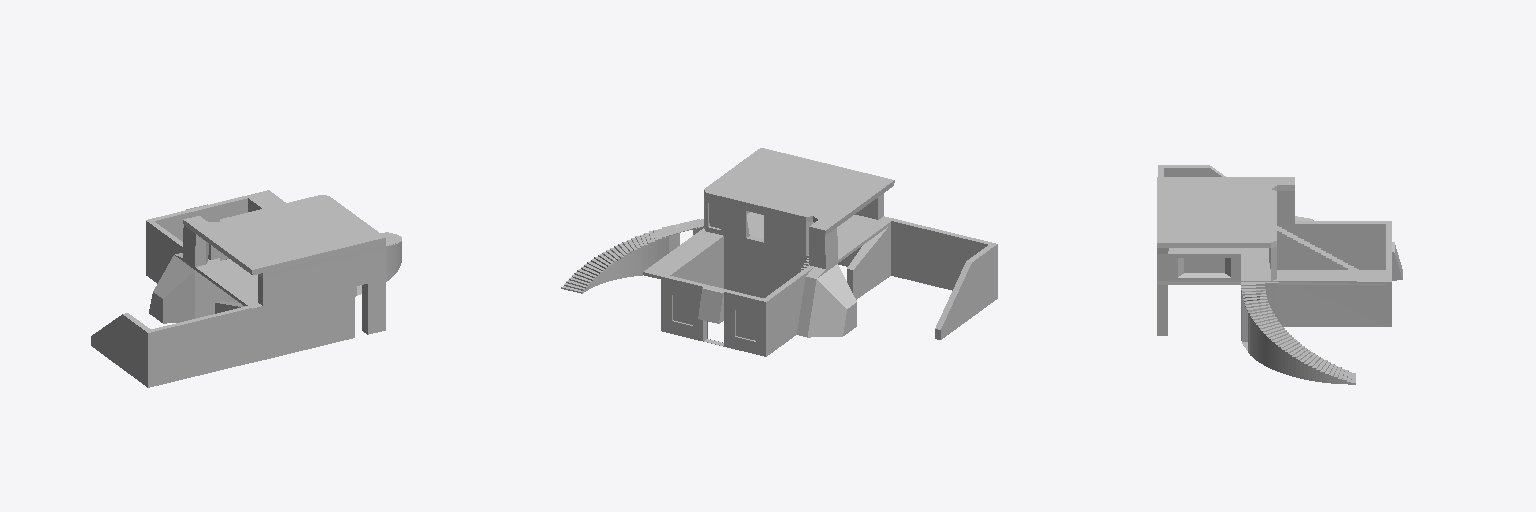
The model's file is House01.obj.
The picture shows the model from 3 angles: view 1: azimuth 30°, elevation 25°; view 2: azimuth 150°, elevation 25°; view 3: azimuth 270°, elevation 25°; orthographic projection.
Visible parts, largest first — view 1: Cube (1); view 2: Cube (1); view 3: Cube (1).
Boxes of the visible parts, box(x1,y1,x2,y2) form: Cube (1): box(91, 190, 401, 387); Cube (1): box(561, 148, 997, 356); Cube (1): box(1157, 165, 1402, 384).
Bounding box in the file's own units: 32.19 × 8.53 × 20.29.